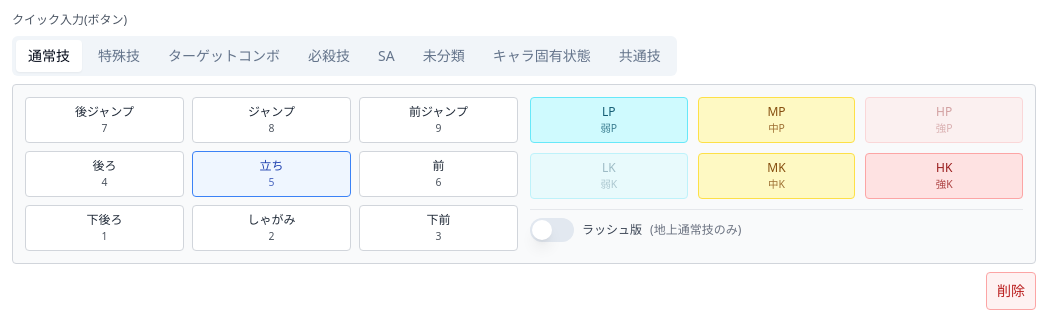
Test: VirtualController(タブ式クイック入力・M15-03) › 特殊技タブのラッシュトグルも上系方向をリセットする(通常技タブと補正共有)
Step 1. Click the button with test id "recipe-dir-8" → (272, 120), box [192,97,351,143]
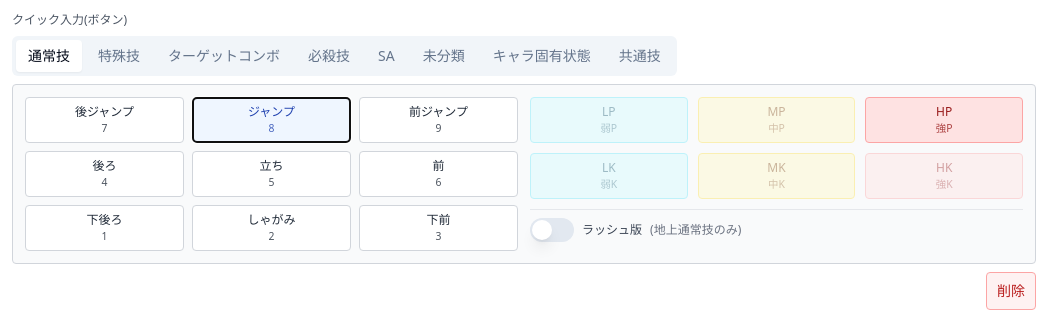
Step 2. Click the tab with test id "recipe-tab-unique" → (119, 56), box [86,40,152,72]
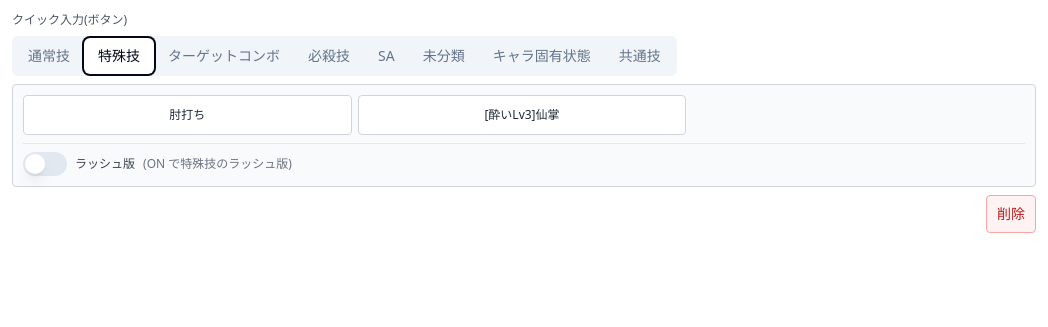
Step 3. Click the switch with test id "recipe-unique-rush-toggle" → (45, 164), box [23,152,67,176]
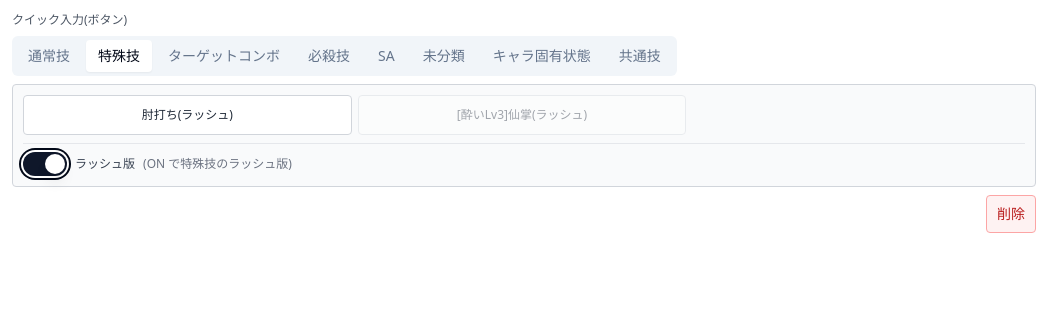
Step 4. Click the tab with test id "recipe-tab-normal" → (49, 56), box [16,40,82,72]
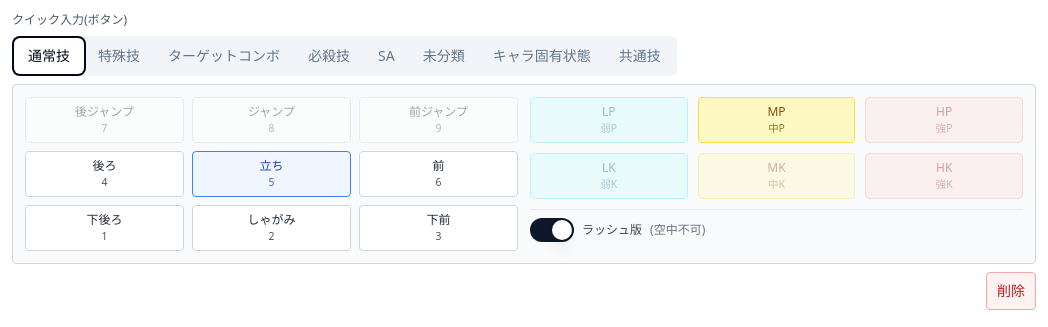
Expected: the button with test id "recipe-dir-8" is disabled, [192,97,351,143]
